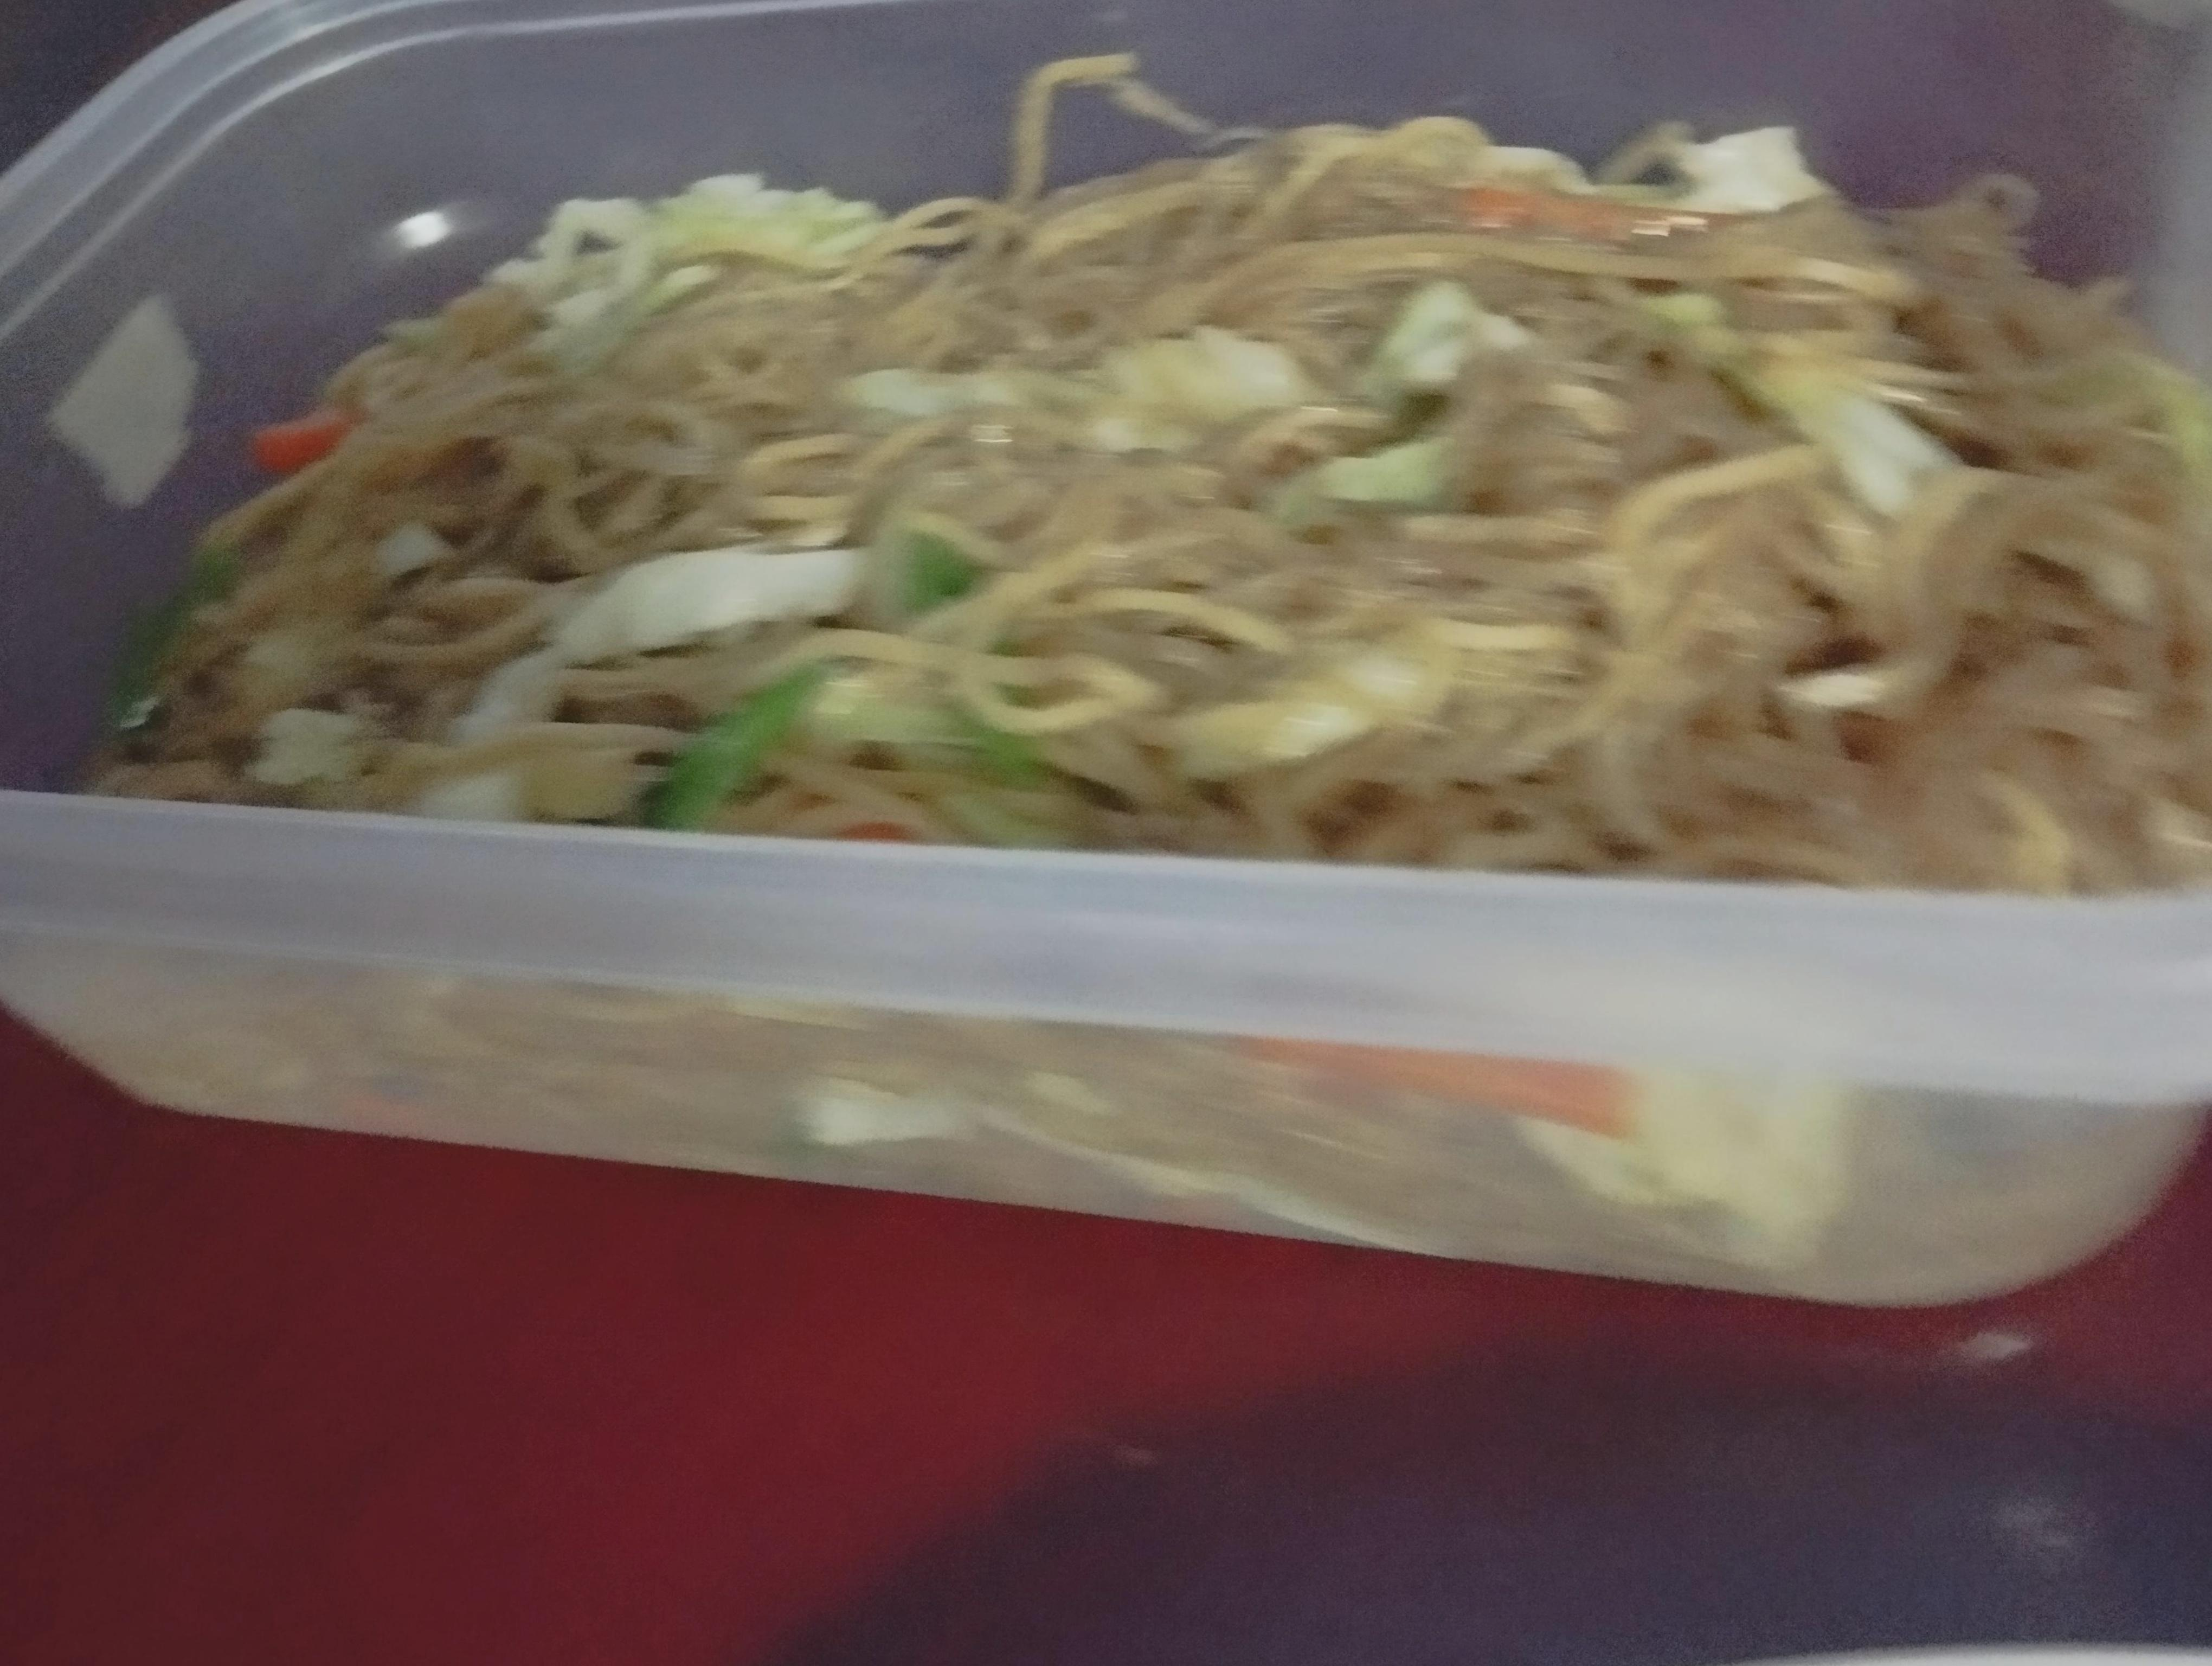pancit bihon: (77, 150, 2212, 901)
